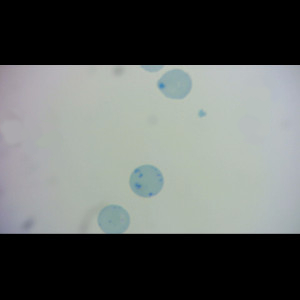aggregate reticulocyte: (128, 164, 165, 199)
erythrocyte: (155, 67, 194, 101)
punctate reticulocyte: (97, 203, 131, 234)
